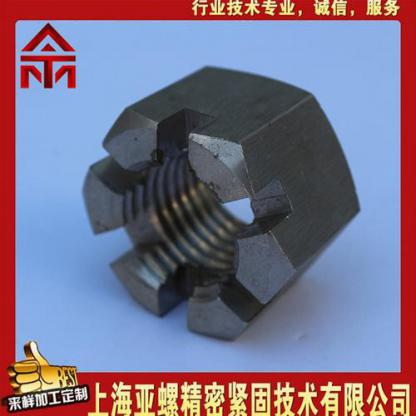FOD: (82, 65, 361, 332)
